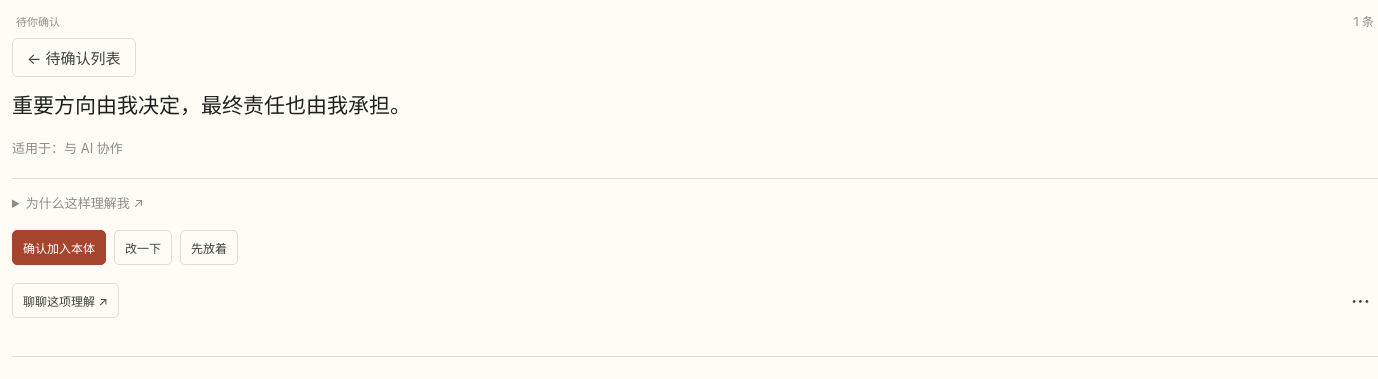
Test case: reads back owner admission and exposes undo only after verified saving
The image size is (1378, 379).
Click the button "确认加入本体". click: (59, 248)
box: [12,230,106,265]
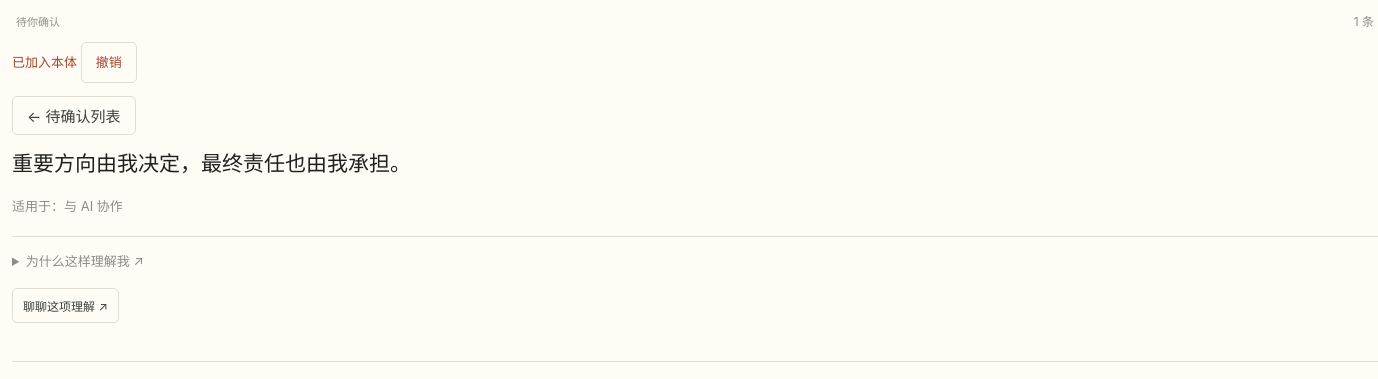
expect the text "已加入本体" is shown: met, box [12,54,77,70]
expect the button "撤销" is shown: met, box [81,42,137,83]
